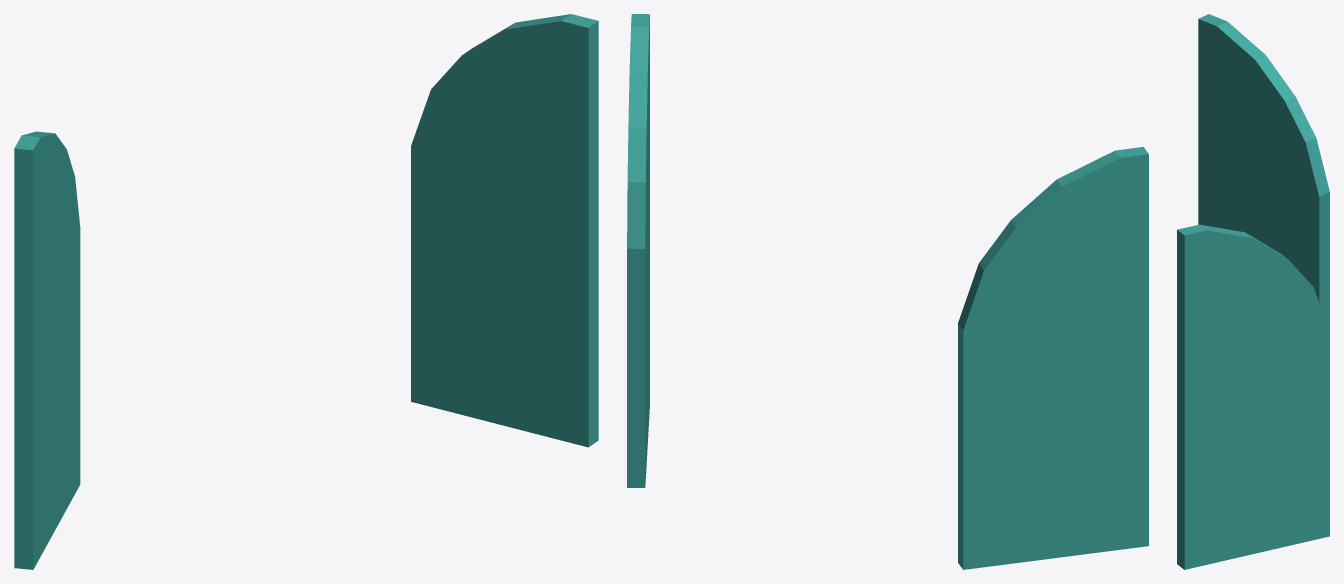
Rendered from WindowsB_1.fbx.
The picture shows the model from 3 angles, left to right: view 1: azimuth 30°, elevation 25°; view 2: azimuth 150°, elevation 25°; view 3: azimuth 270°, elevation 25°; orthographic projection. The views are drawn at different scales.
Visible parts, largest first — view 1: WindowB_1; view 2: WindowB_1; view 3: WindowB_1.
Boxes of the visible parts, box(x1,y1,x2,y2) form: WindowB_1: box(14, 14, 598, 569); WindowB_1: box(627, 14, 1148, 569); WindowB_1: box(1177, 14, 1329, 569).
Bounding box in the file's own units: 115 × 80.85 × 33.49.
